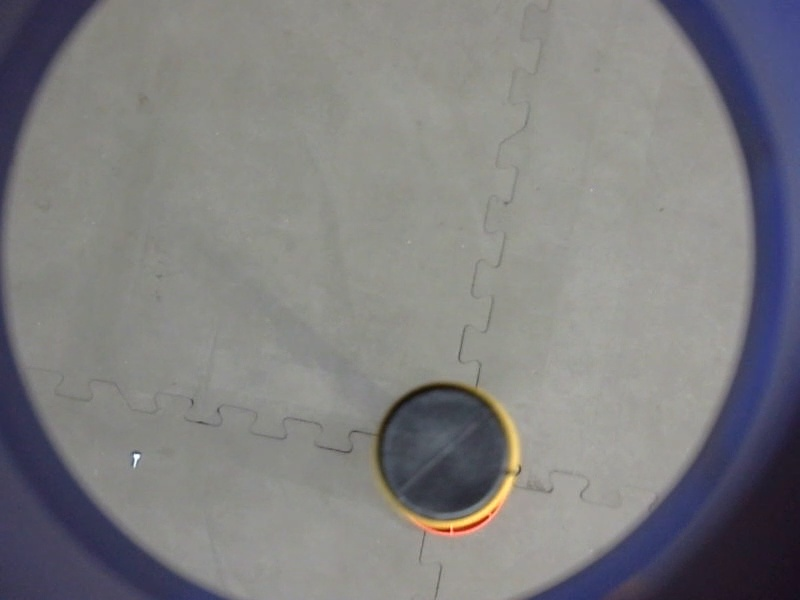tip: (366, 375, 527, 533)
